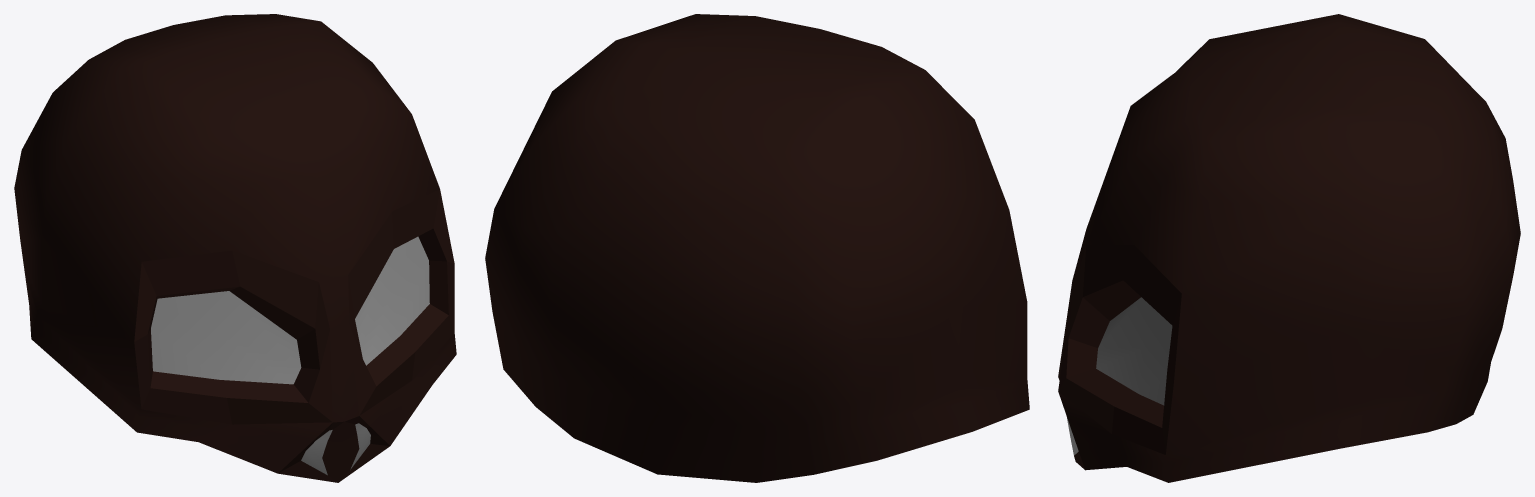
File: mage_mask_lvl1.FBX
3 views of the same model, side by side, from view 1: azimuth 30°, elevation 25°; view 2: azimuth 150°, elevation 25°; view 3: azimuth 270°, elevation 25° (orthographic). The views are drawn at different scales.
Visible parts, largest first — view 1: Object001; view 2: Object001; view 3: Object001.
Boxes of the visible parts, left/top/right/bottom form: Object001: left=14, top=14, right=456, bottom=482; Object001: left=485, top=14, right=1029, bottom=482; Object001: left=1058, top=14, right=1520, bottom=482.
Bounding box in the file's own units: 32.59 × 29.4 × 30.79.
